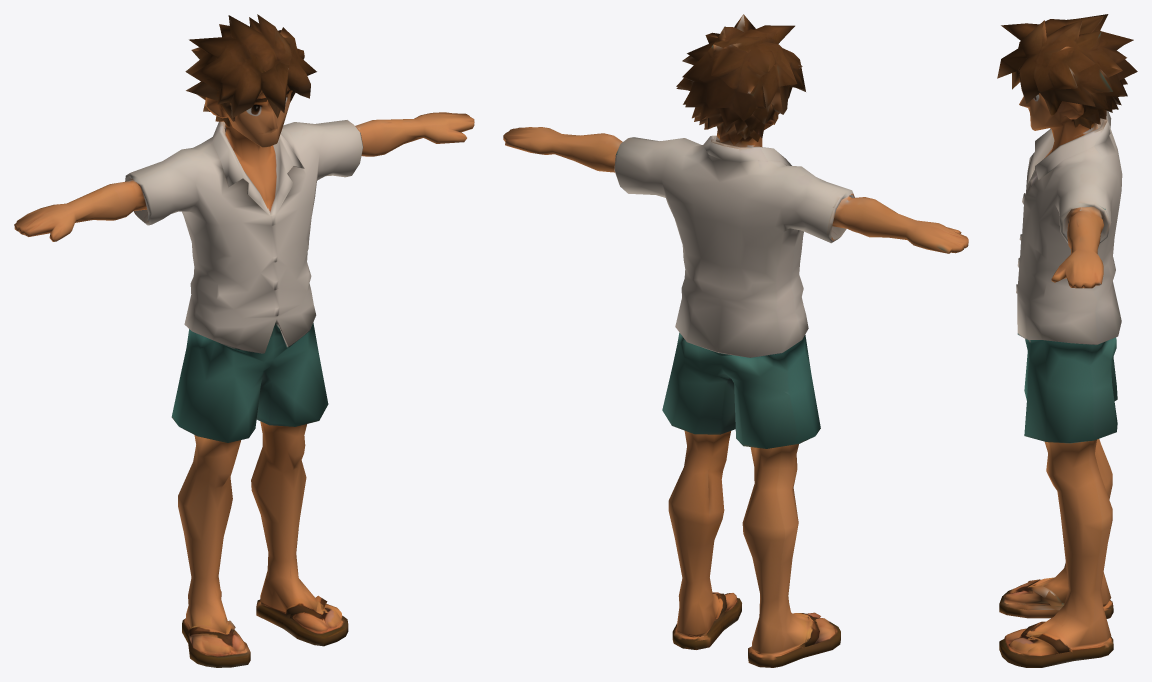
The model's file is hunyuan_3000.glb.
3 renders of one model, left to right at view 1: azimuth 30°, elevation 25°; view 2: azimuth 150°, elevation 25°; view 3: azimuth 270°, elevation 25°, orthographic.
Visible parts, largest first — view 1: material; view 2: material; view 3: material.
Boxes of the visible parts, box(x1,y1,x2,y2) form: material: box(14, 14, 474, 667); material: box(503, 14, 968, 667); material: box(997, 14, 1137, 667).
Size of the model in its own units: 1.48 by 1.9 by 0.3925.
Materials: 1 (1 with a texture image).
